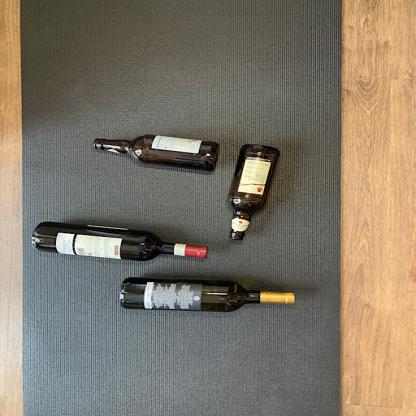trash: (28, 219, 215, 268), (122, 275, 314, 314), (226, 140, 287, 242), (88, 130, 218, 175)
